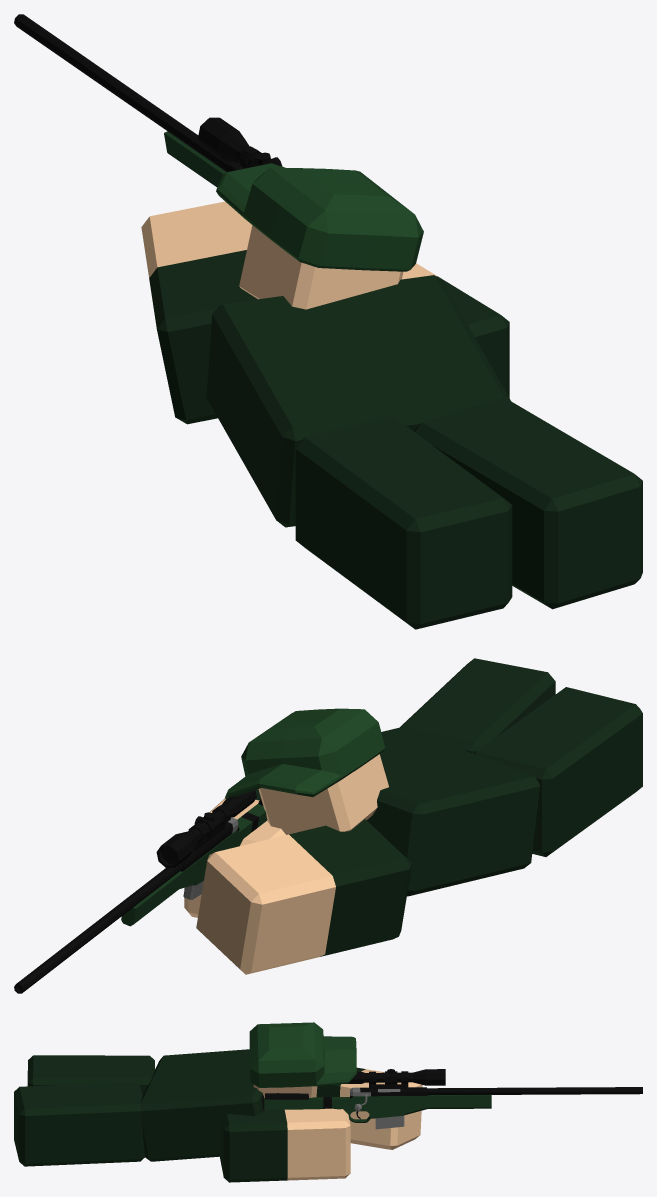
3 renders of one model, top to bottom at view 1: azimuth 30°, elevation 25°; view 2: azimuth 150°, elevation 25°; view 3: azimuth 270°, elevation 25°, orthographic. The views are drawn at different scales.
Visible parts, largest first — view 1: Cube, Cube.001, Cube.002; view 2: Cube, Cube.001, Cube.002; view 3: Cube, Cube.001, Cube.002.
Boxes of the visible parts, x1=… form: Cube: x1=206, y1=163, x2=642, y2=629; Cube.001: x1=14, y1=14, x2=282, y2=424; Cube.002: x1=402, y1=263, x2=509, y2=397; Cube: x1=225, y1=658, x2=642, y2=896; Cube.001: x1=14, y1=790, x2=411, y2=993; Cube.002: x1=184, y1=789, x2=285, y2=917; Cube: x1=14, y1=1022, x2=356, y2=1166; Cube.001: x1=262, y1=1067, x2=642, y2=1149; Cube.002: x1=220, y1=1108, x2=350, y2=1182.
Size of the model in its own units: 2.76 by 2.14 by 9.89.
